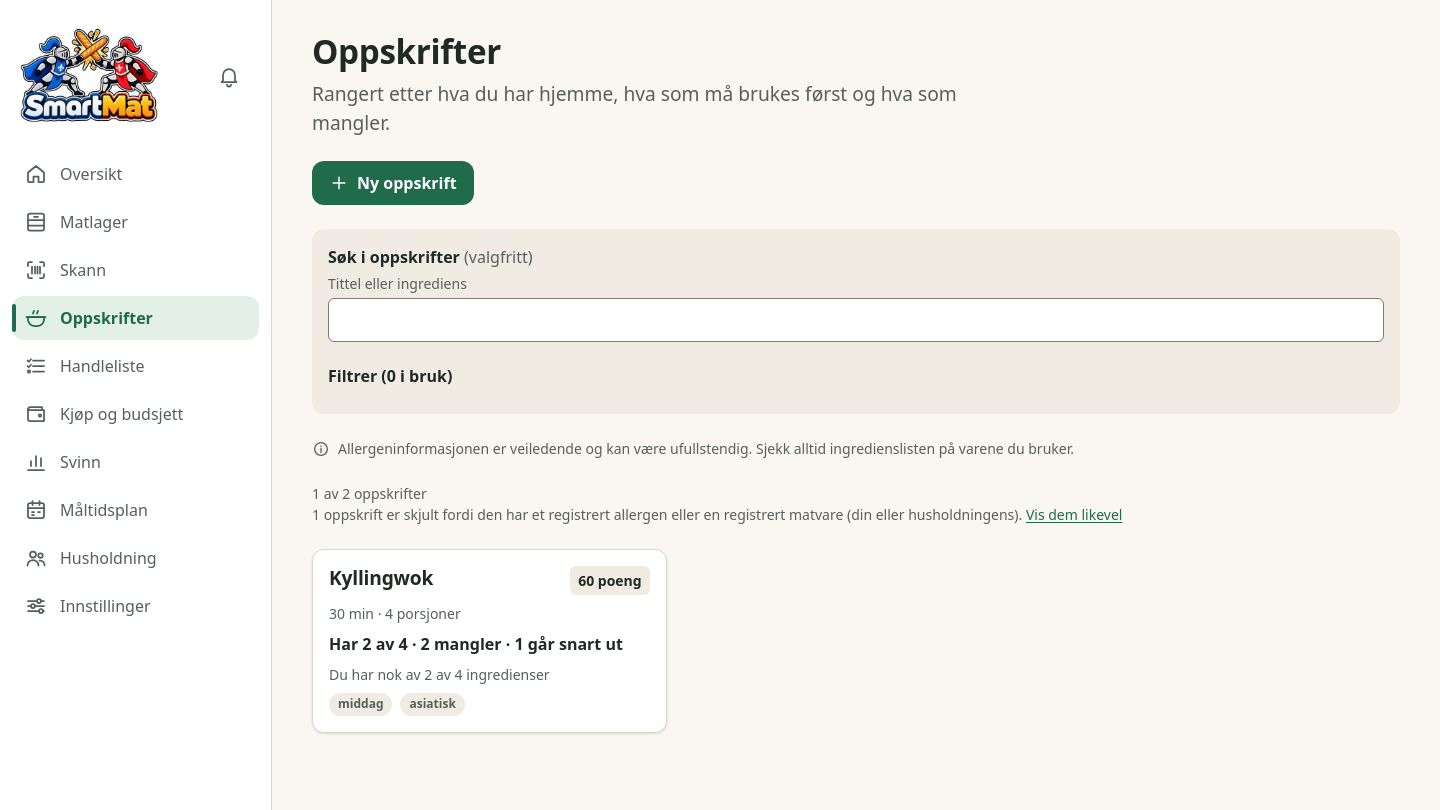
FR-REC-004 allergens in the list › hides recipes with the user’s allergens by default and says how many
Expected: the link "Kyllingwok" is shown, [329,564,433,591]
Expected: the link "Vafler" is not shown
The hidden count links straight to the switched-on list.
Click the link "Vis dem likevel". click: point(1074, 515)
box: [1026,505,1122,524]
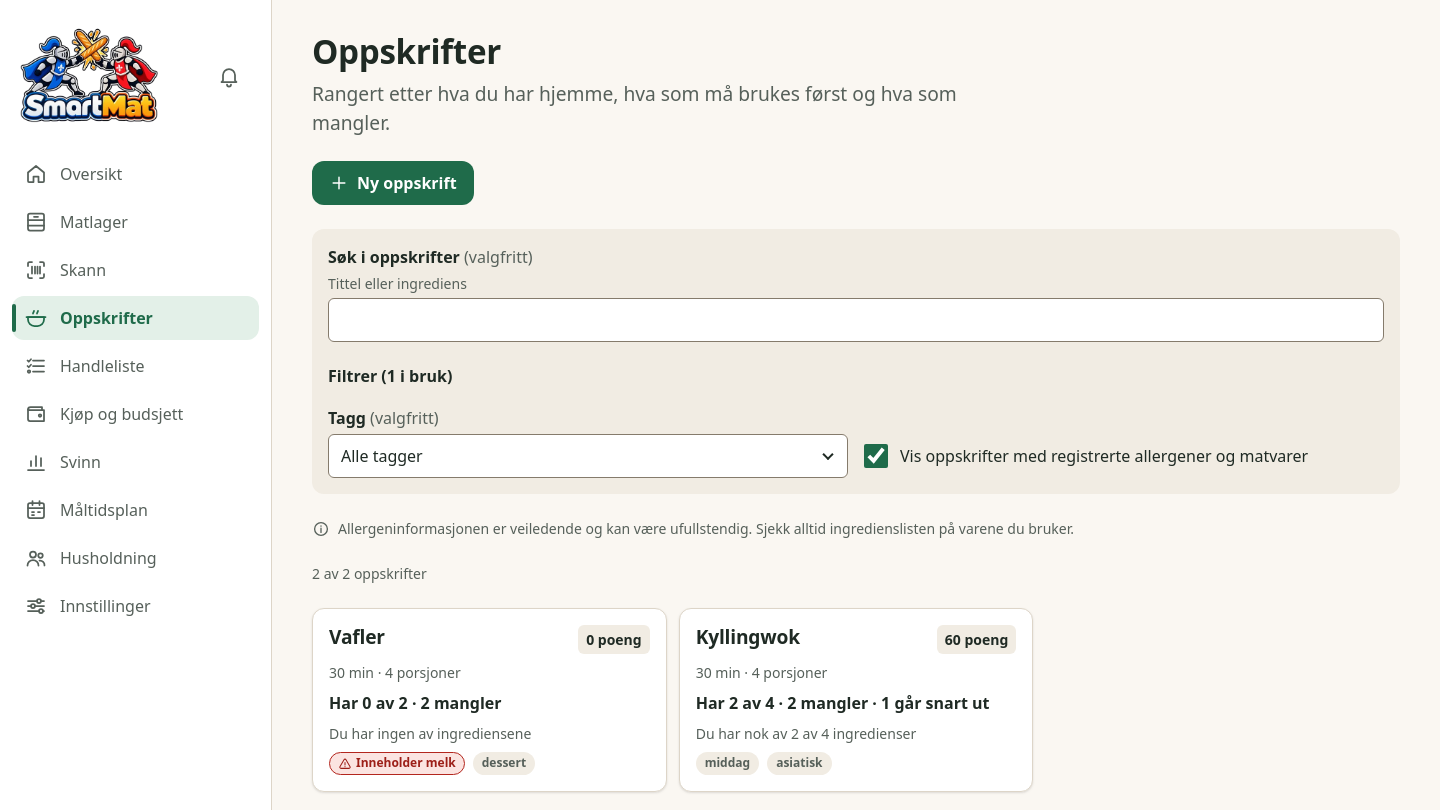
Expected: the text "Allergeninformasjonen er veiledende" is shown, [338,519,1074,538]
Result: the checkbox labelled "Vis oppskrifter med registrerte allergener og matvarer" is checked at [864,444,888,468]
Result: the text "Inneholder melk" is shown at [329,752,465,775]
